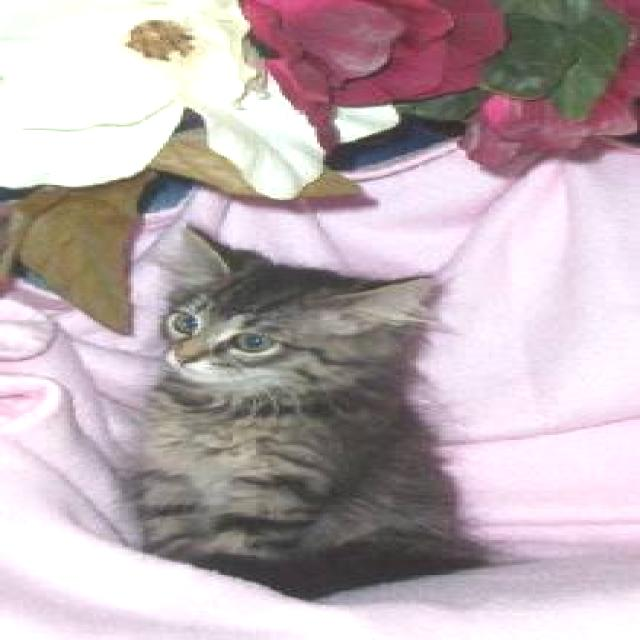Kucing: (137, 226, 522, 573)
